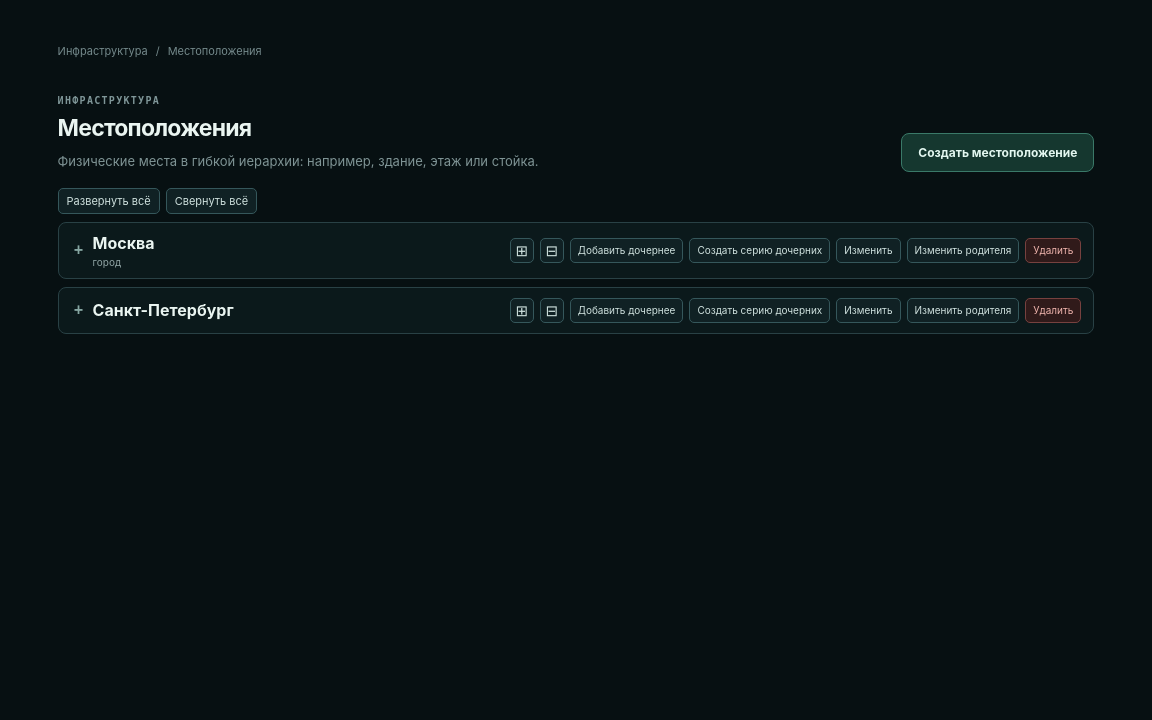
Scenario: LocationsPage › keeps unrelated branches unchanged when expanding and collapsing one subtree
expect the text "Москва" is shown: met, box [93,232,155,252]
Click the button named "Развернуть ветку: Москва" at (522, 250), box [510,238,534,262]
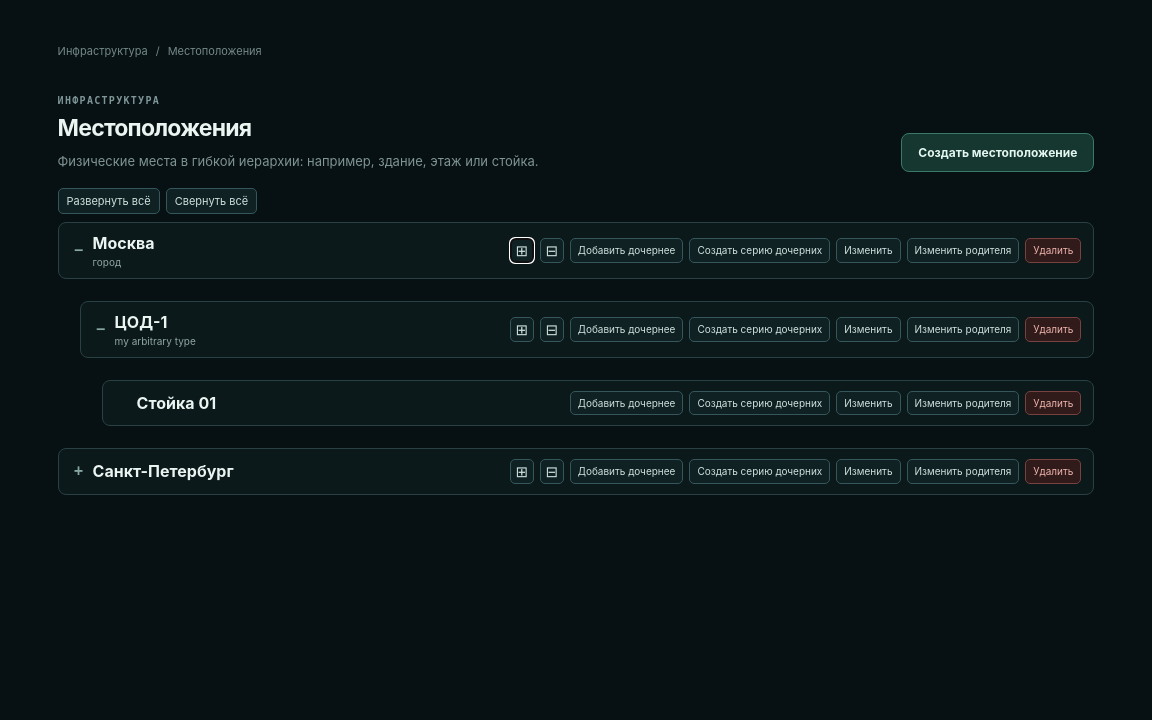
expect the text "ЦОД-2" is not shown: met
expect the text "Стойка 01" is shown: met, box [137,392,216,412]
Click the button named "Развернуть ветку: Санкт-Петербург" at (522, 471), box [510,458,534,484]
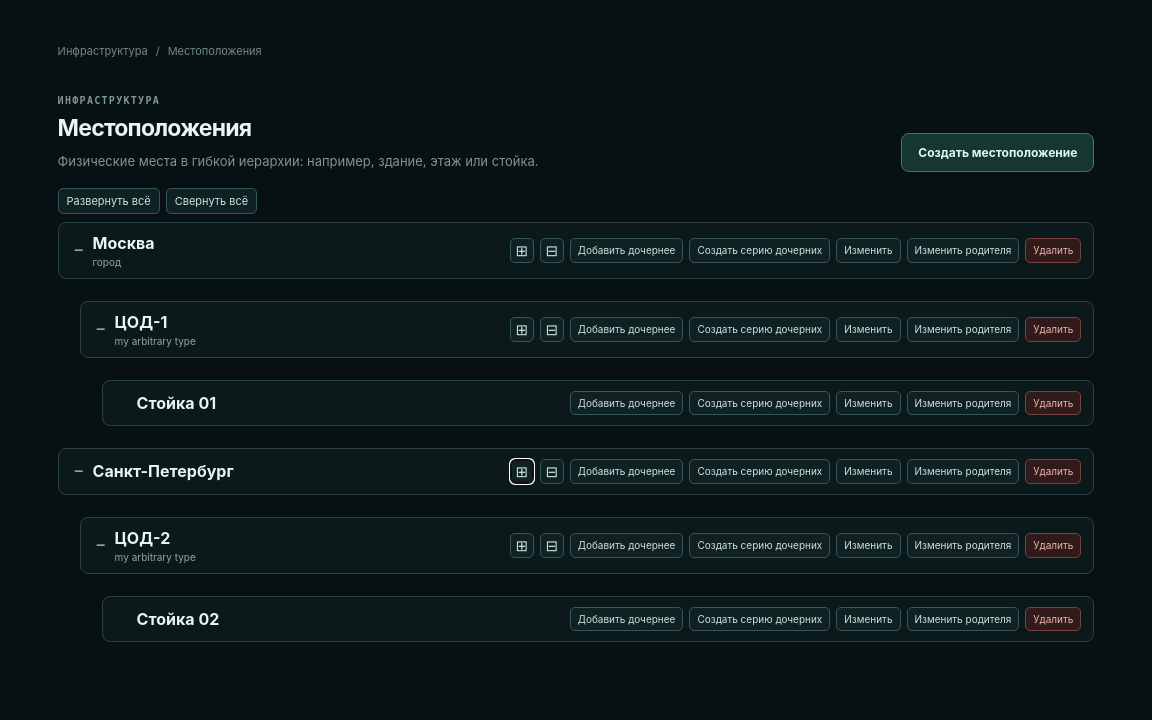
expect the text "Стойка 02" is shown: met, box [137,608,219,628]
Click the button named "Свернуть ветку: Москва" at (552, 250), box [540,238,564,262]
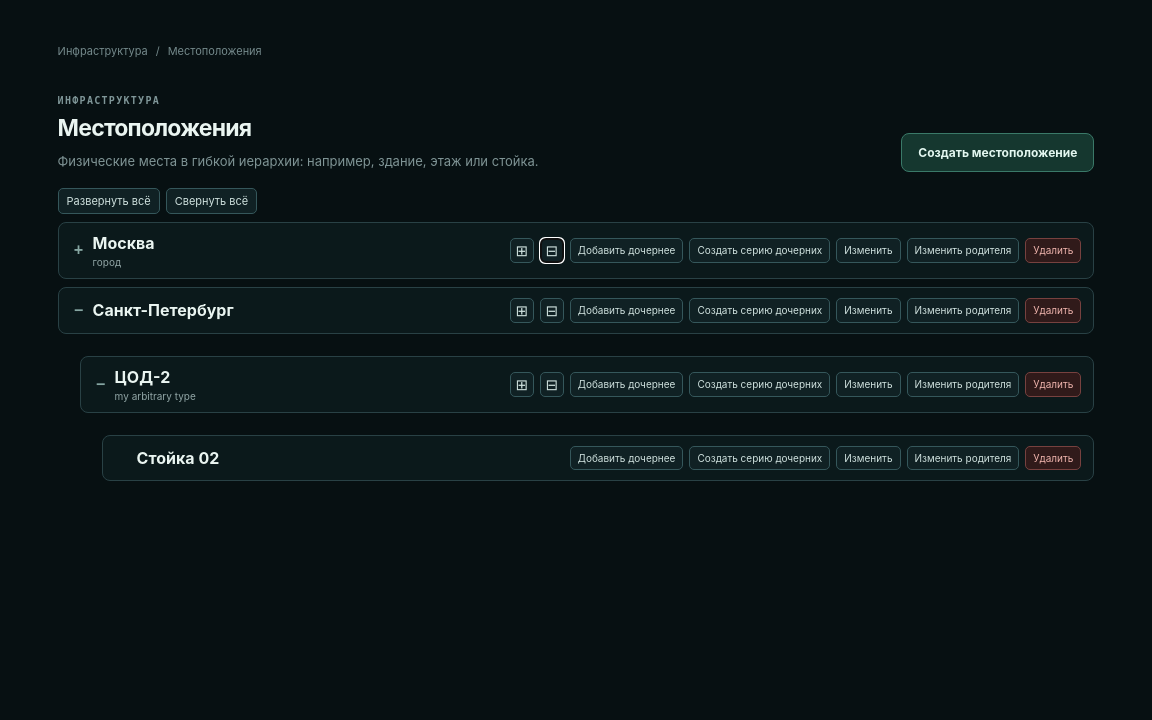
expect the text "Стойка 02" is shown: met, box [137,448,219,468]
expect the text "ЦОД-1" is gone: met
Click the button named "Развернуть Москва" at (79, 250), box [71,242,87,258]
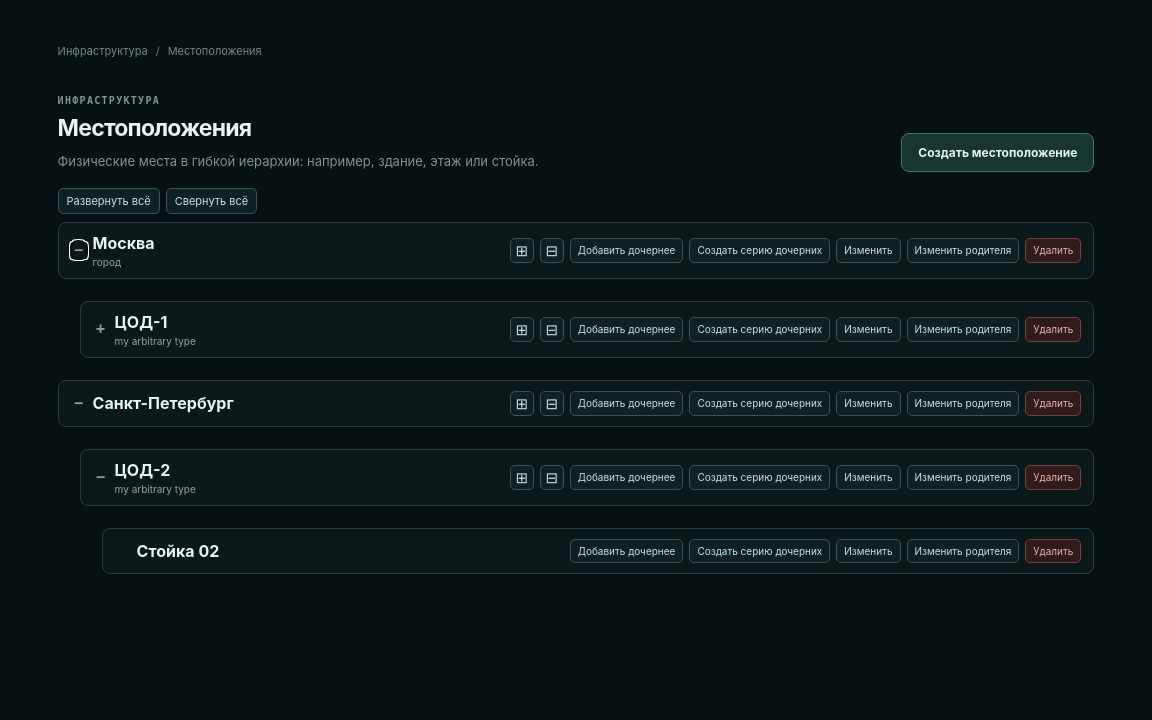
expect the text "Стойка 01" is not shown: met
expect the text "ЦОД-1" is shown: met, box [115,312,168,332]
